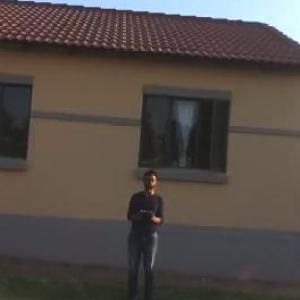follow: (120, 164, 168, 299)
